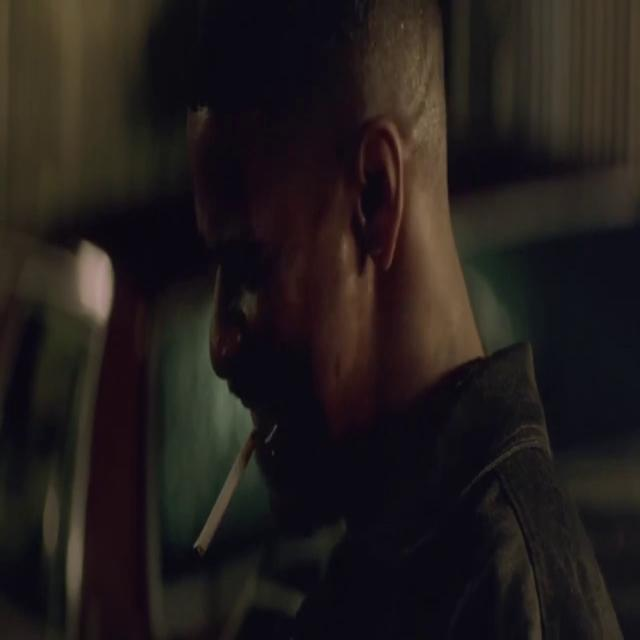Smooking: (183, 409, 260, 578)
